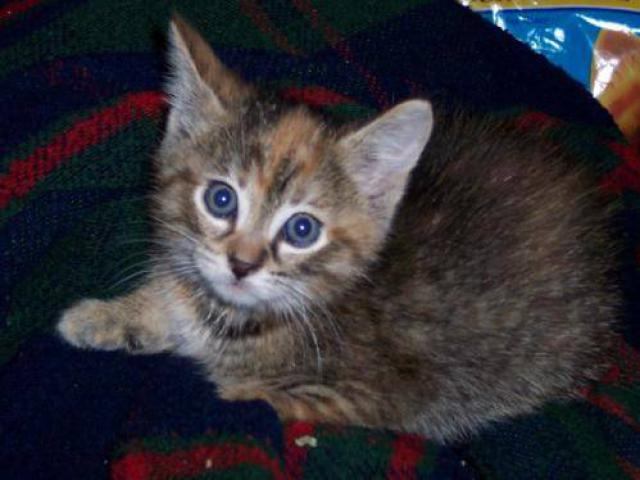cat: (49, 16, 623, 451)
